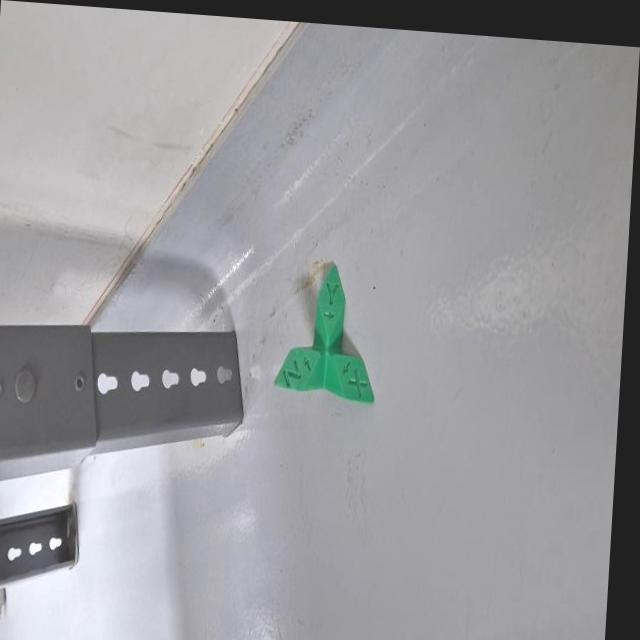eje: (266, 248, 386, 430)
